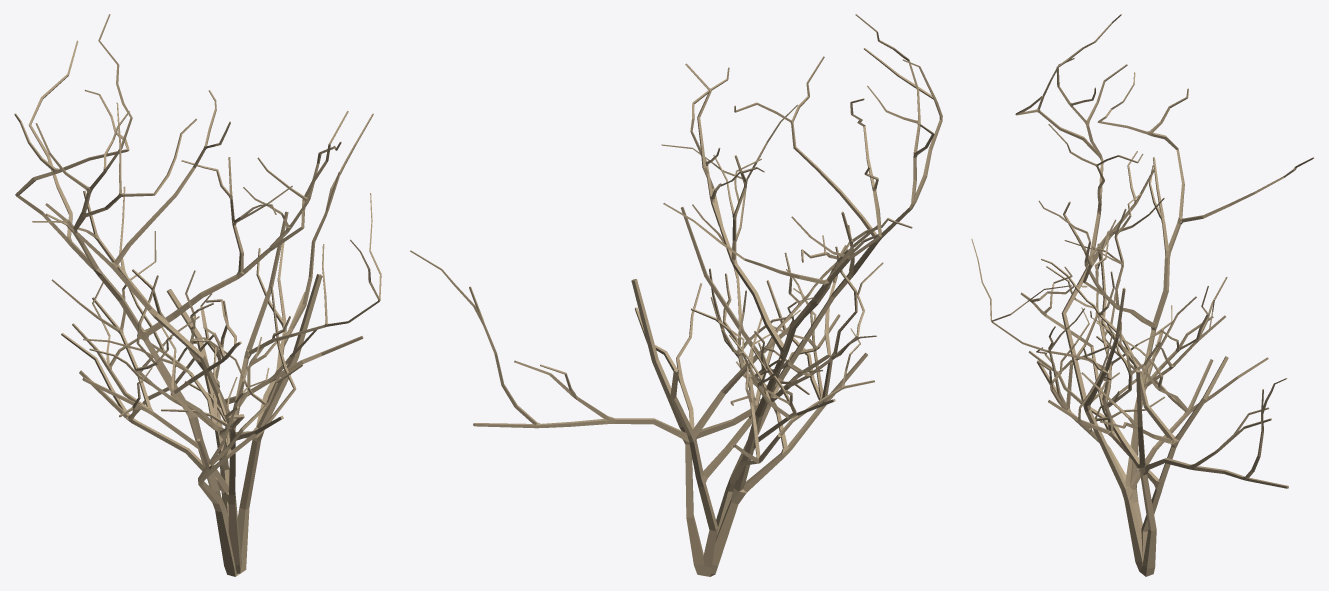
3 views of the same model, side by side, from view 1: azimuth 30°, elevation 25°; view 2: azimuth 150°, elevation 25°; view 3: azimuth 270°, elevation 25° (orthographic). The views are drawn at different scales.
Visible parts, largest first — view 1: Arbusto; view 2: Arbusto; view 3: Arbusto.
Boxes of the visible parts, left/top/right/bottom form: Arbusto: left=14, top=14, right=381, bottom=576; Arbusto: left=410, top=14, right=942, bottom=576; Arbusto: left=971, top=14, right=1314, bottom=576.
Size of the model in its own units: 2.45 by 3.25 by 2.01.
